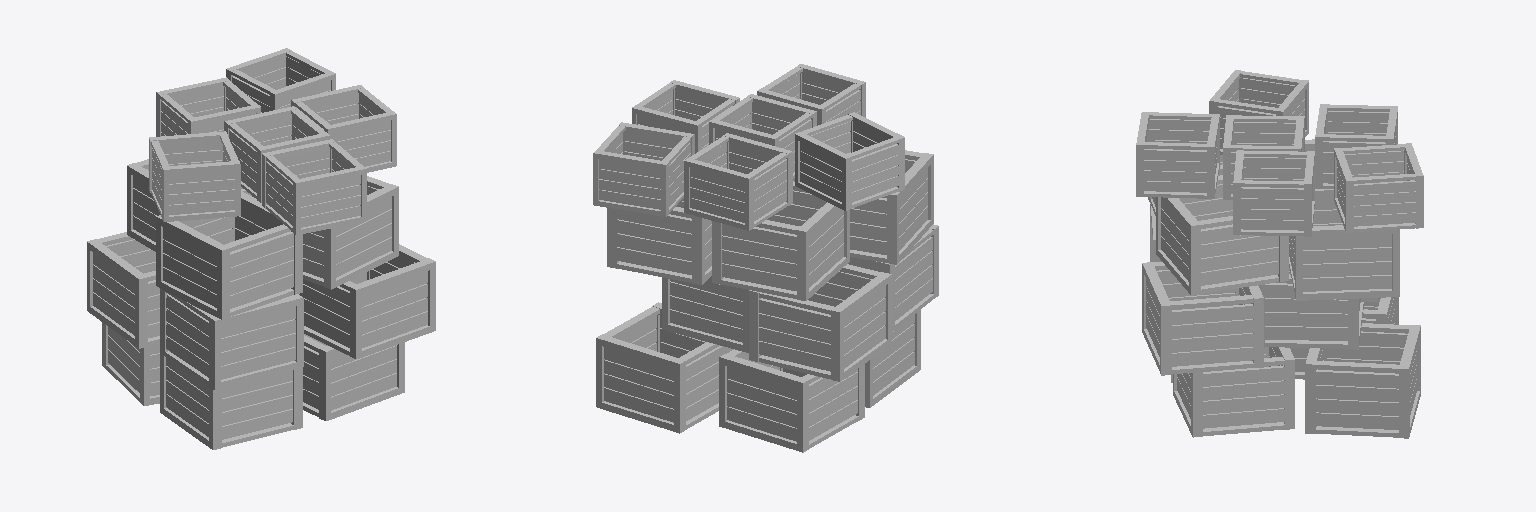
The model's file is cratestackz+.obj.
The picture shows the model from 3 angles: view 1: azimuth 30°, elevation 25°; view 2: azimuth 150°, elevation 25°; view 3: azimuth 270°, elevation 25°; orthographic projection.
Visible parts, largest first — view 1: bedx+; view 2: bedx+; view 3: bedx+.
Boxes of the visible parts, <box> form: bedx+: <box>87,48,435,449</box>; bedx+: <box>593,64,938,452</box>; bedx+: <box>1136,70,1423,438</box>.
Size of the model in its own units: 0.9625 by 0.9942 by 0.9933.